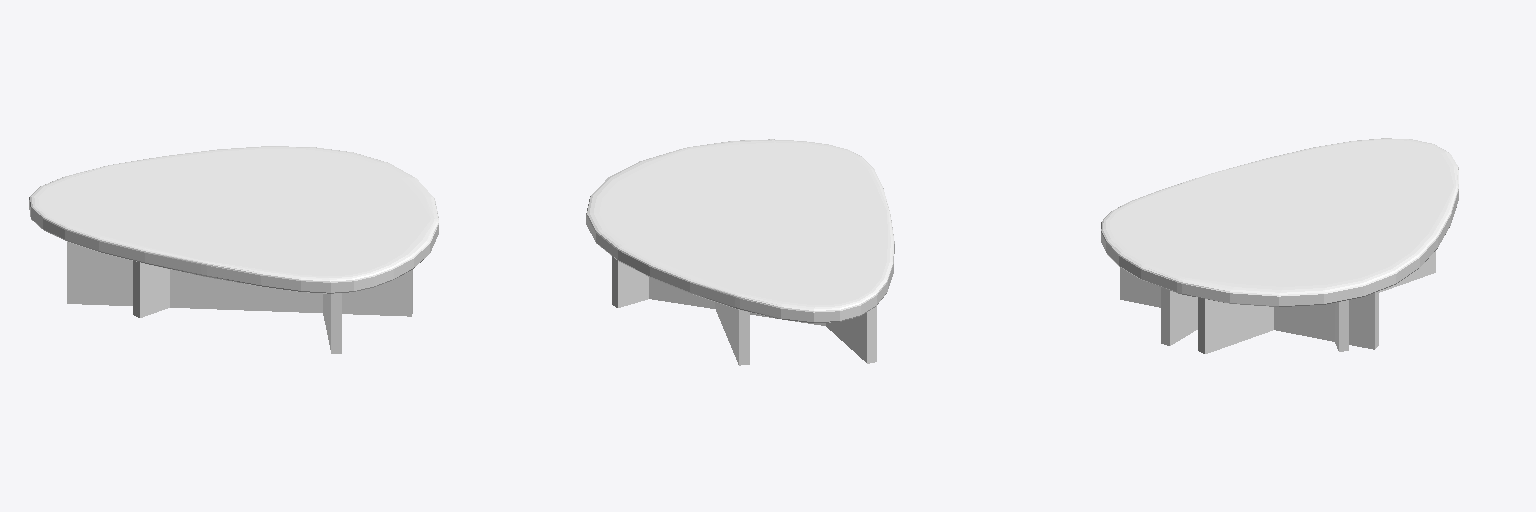
The model's file is glasstable1_white.obj.
The picture shows the model from 3 angles: view 1: azimuth 30°, elevation 25°; view 2: azimuth 150°, elevation 25°; view 3: azimuth 270°, elevation 25°; orthographic projection.
Parts seen in each view (by area): view 1: Cylinder294, Box6076, Box6074, Box6075; view 2: Cylinder294, Box6076, Box6075, Box6077, Box6074; view 3: Cylinder294, Box6075, Box6077, Box6076, Box6074.
Boxes of the visible parts, x1,y1,x2,y2 form: Cylinder294: [29, 146, 438, 293]; Box6076: [67, 242, 412, 316]; Box6074: [133, 261, 169, 317]; Box6075: [323, 293, 341, 353]; Cylinder294: [586, 139, 894, 322]; Box6076: [826, 306, 876, 363]; Box6075: [612, 256, 648, 307]; Box6077: [715, 302, 749, 365]; Box6074: [649, 277, 825, 325]; Cylinder294: [1101, 138, 1458, 306]; Box6075: [1120, 267, 1378, 349]; Box6077: [1198, 251, 1435, 353]; Box6076: [1161, 287, 1197, 345]; Box6074: [1335, 300, 1348, 351].
Bounding box in the file's own units: 88.64 × 21.4 × 85.46.